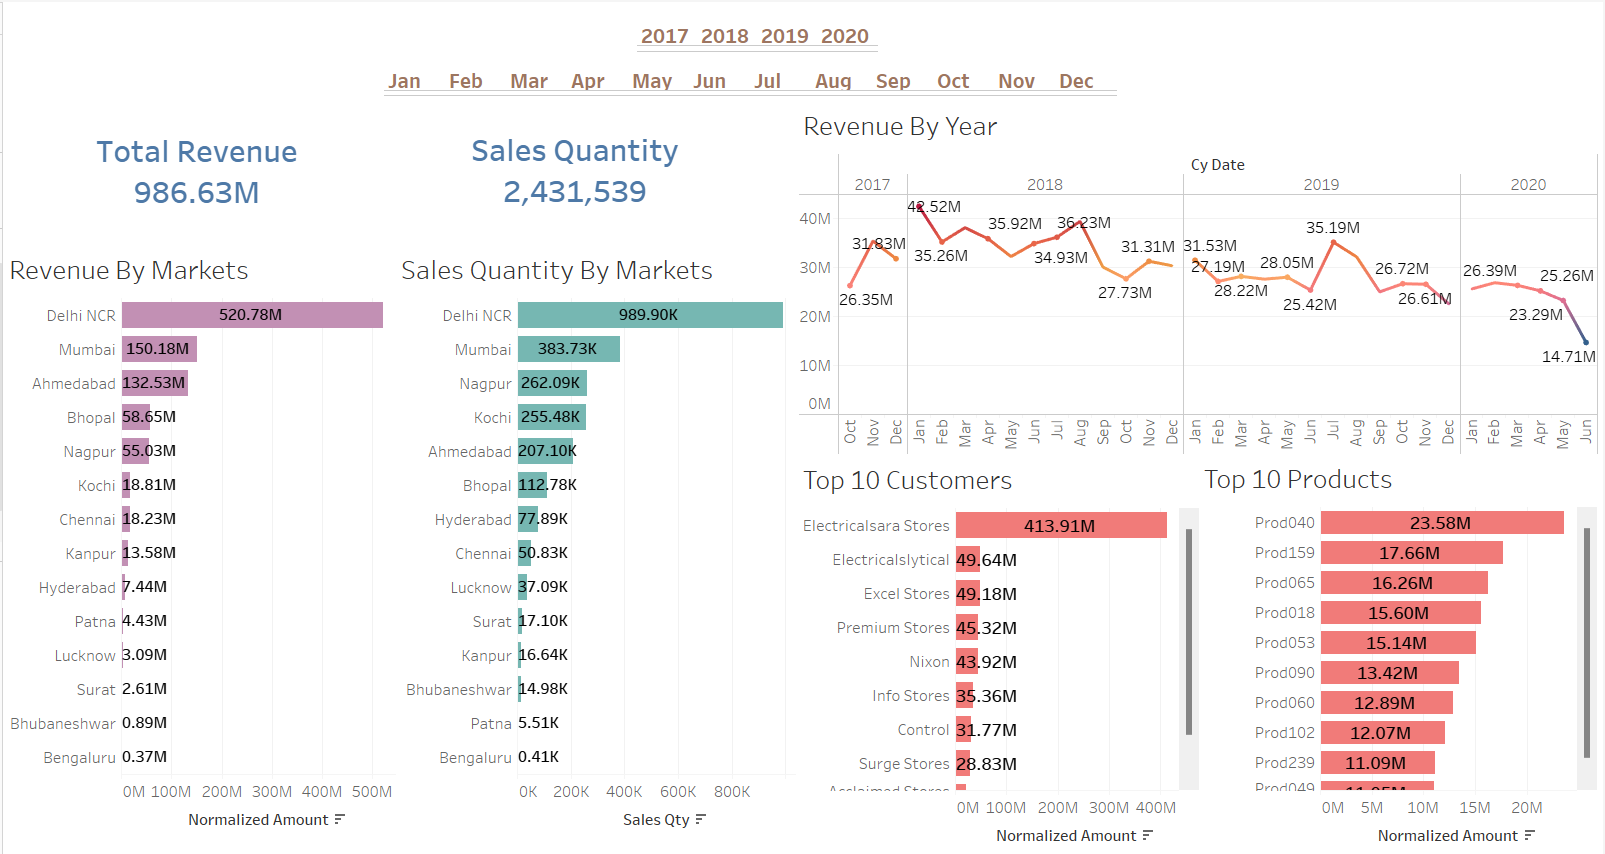

The page's visual inventory and layout, read from the dashboard file:
{"tool":"tableau","page":{"name":"Dashboard 1","canvas":[1600,900],"ordinal":0},"visuals":[{"type":"worksheet","title":"Year","mark":"Automatic","cols":["cy_date"],"box":[633.6,8,282.7,51]},{"type":"worksheet","title":"Month","mark":"Automatic","cols":["cy_date"],"box":[380.8,53,784,51]},{"type":"worksheet","title":"Revenue By Year","mark":"Automatic","rows":["Calculation_1930355445046218752"],"cols":["cy_date","cy_date"],"box":[796,102,800,351]},{"type":"worksheet","title":"Quantity","mark":"Automatic","box":[462,111,285,133]},{"type":"worksheet","title":"Revenue","mark":"Automatic","box":[84,112,271,132]},{"type":"worksheet","title":"Revenue By Markets","mark":"Automatic","rows":["markets_name"],"cols":["Calculation_1930355445046218752"],"box":[2,246,391,605]},{"type":"worksheet","title":"Sales Quantity By Markets","mark":"Automatic","rows":["markets_name"],"cols":["sales_qty"],"box":[394,246,399,605]},{"type":"worksheet","title":"Top 10 Products","mark":"Automatic","rows":["product_code (products)"],"cols":["Calculation_1930355445046218752"],"box":[1197,455,397,396]},{"type":"worksheet","title":"Top 10 Customers","mark":"Automatic","rows":["custmer_name"],"cols":["Calculation_1930355445046218752"],"box":[796,456,400,395]}]}

Visuals, with their boxes on the page's 1600x900 design canvas (x1, y1, x2, y2). These are canvas units, not pixel positions in the 1605x854 screenshot, which may show the page scaled, cropped or inside an application window:
"Year" worksheet: rect(634, 8, 916, 59)
"Month" worksheet: rect(381, 53, 1165, 104)
"Revenue By Year" worksheet: rect(796, 102, 1596, 453)
"Quantity" worksheet: rect(462, 111, 747, 244)
"Revenue" worksheet: rect(84, 112, 355, 244)
"Revenue By Markets" worksheet: rect(2, 246, 393, 851)
"Sales Quantity By Markets" worksheet: rect(394, 246, 793, 851)
"Top 10 Products" worksheet: rect(1197, 455, 1594, 851)
"Top 10 Customers" worksheet: rect(796, 456, 1196, 851)
